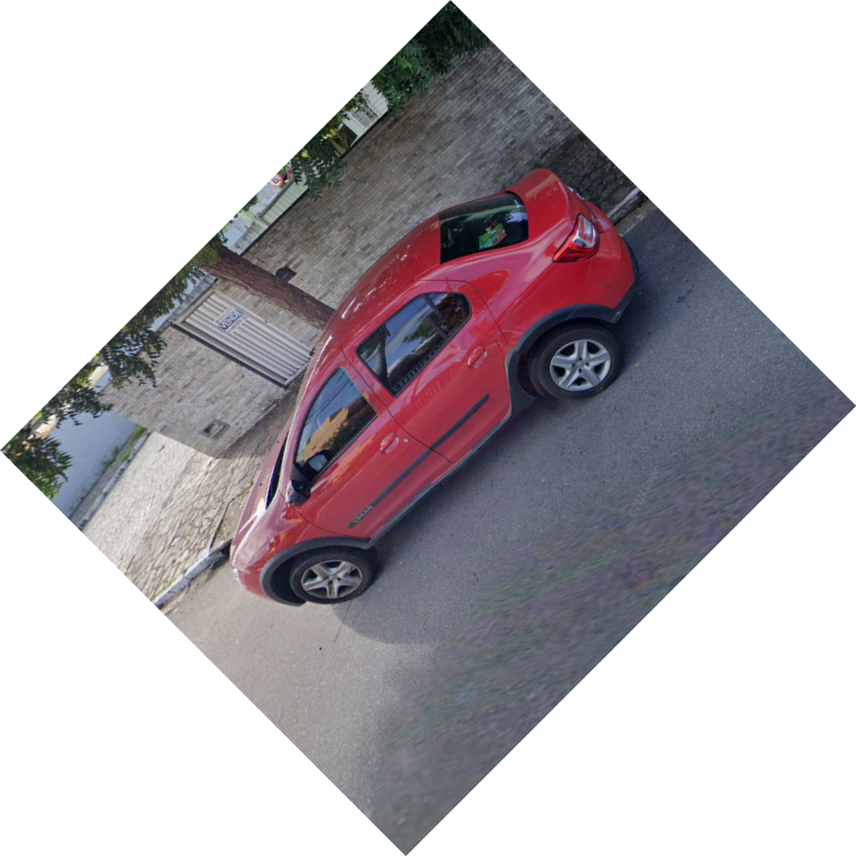car: (225, 167, 641, 608)
